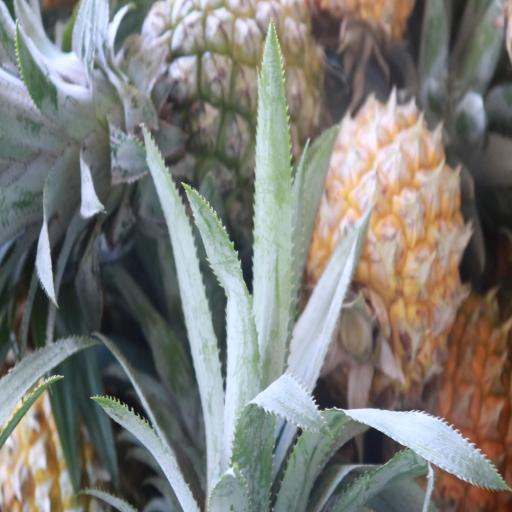Pineapple - v8 v1: (316, 103, 464, 379)
